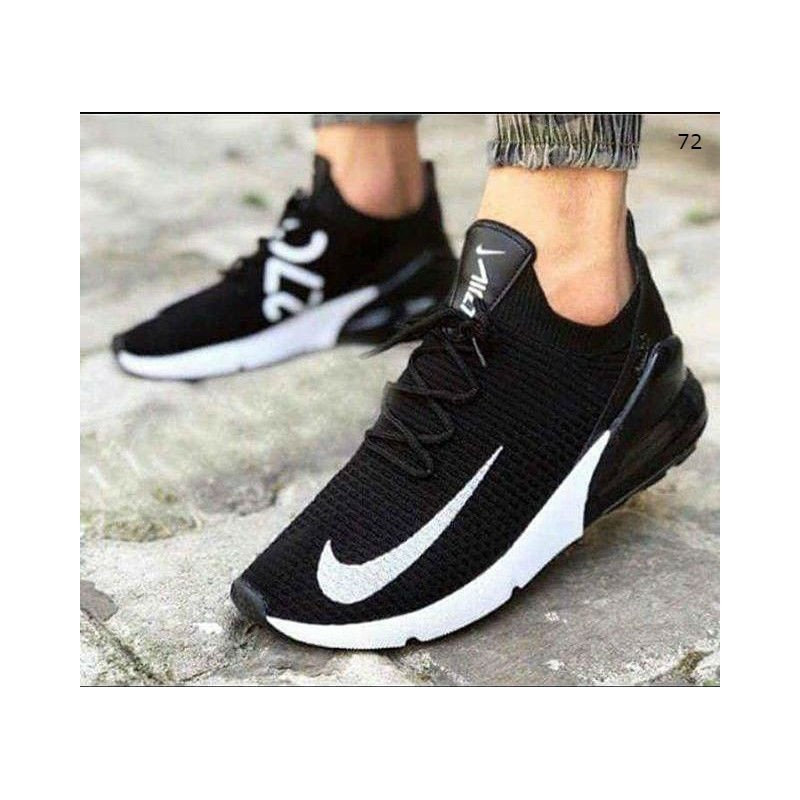nike: (316, 442, 507, 608)
